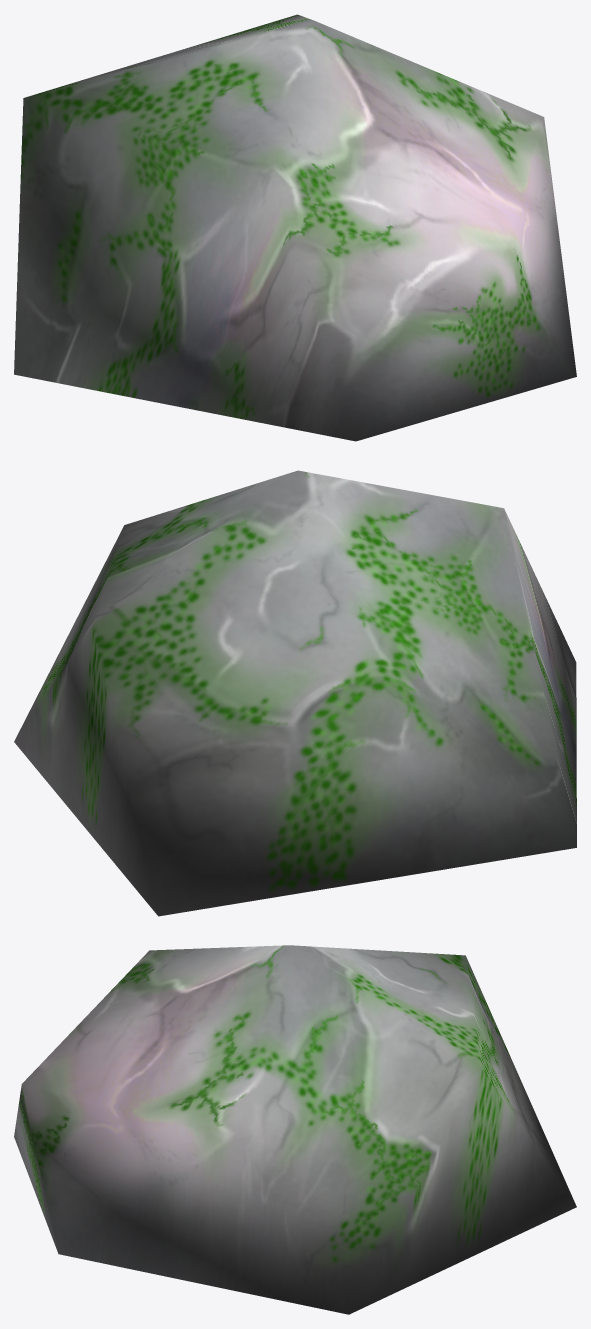
The model's file is BKS_Set3_RockB.fbx.
3 views of the same model, one above another, from view 1: azimuth 30°, elevation 25°; view 2: azimuth 150°, elevation 25°; view 3: azimuth 270°, elevation 25° (orthographic). The views are drawn at different scales.
Visible parts, largest first — view 1: rockB; view 2: rockB; view 3: rockB.
Part boxes in pixels (x1,y1,x2,y2): rockB: (14,14,576,441); rockB: (14,470,576,916); rockB: (14,945,576,1314).
Bounding box in the file's own units: 2.49 × 1.57 × 2.6.
